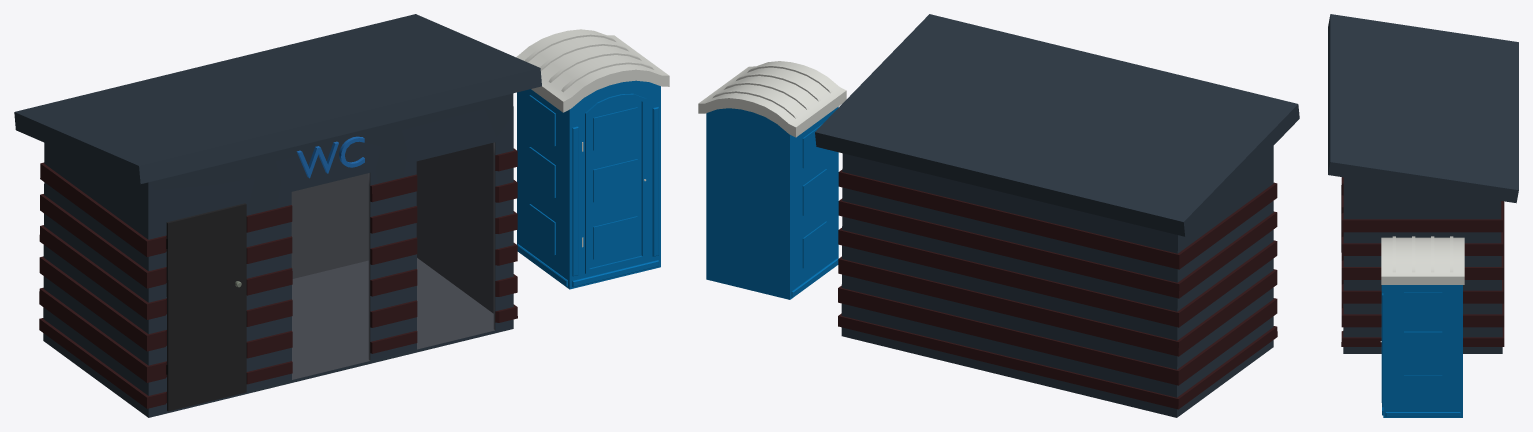
Rendered from Toilets.fbx.
3 renders of one model, left to right at view 1: azimuth 30°, elevation 25°; view 2: azimuth 150°, elevation 25°; view 3: azimuth 270°, elevation 25°, orthographic. The views are drawn at different scales.
Visible parts, largest first — view 1: Toilet_2, Toilet_1, Toilet_2_door, Toilet_1_door; view 2: Toilet_2, Toilet_1; view 3: Toilet_2, Toilet_1.
Part boxes in pixels (x1,y1,x2,y2): Toilet_2: (14, 14, 541, 417); Toilet_1: (516, 29, 669, 289); Toilet_2_door: (166, 203, 246, 411); Toilet_1_door: (582, 91, 647, 276); Toilet_2: (815, 14, 1299, 417); Toilet_1: (698, 61, 846, 299); Toilet_2: (1328, 14, 1518, 353); Toilet_1: (1381, 236, 1464, 417).
Bounding box in the file's own units: 618 × 275 × 240.
